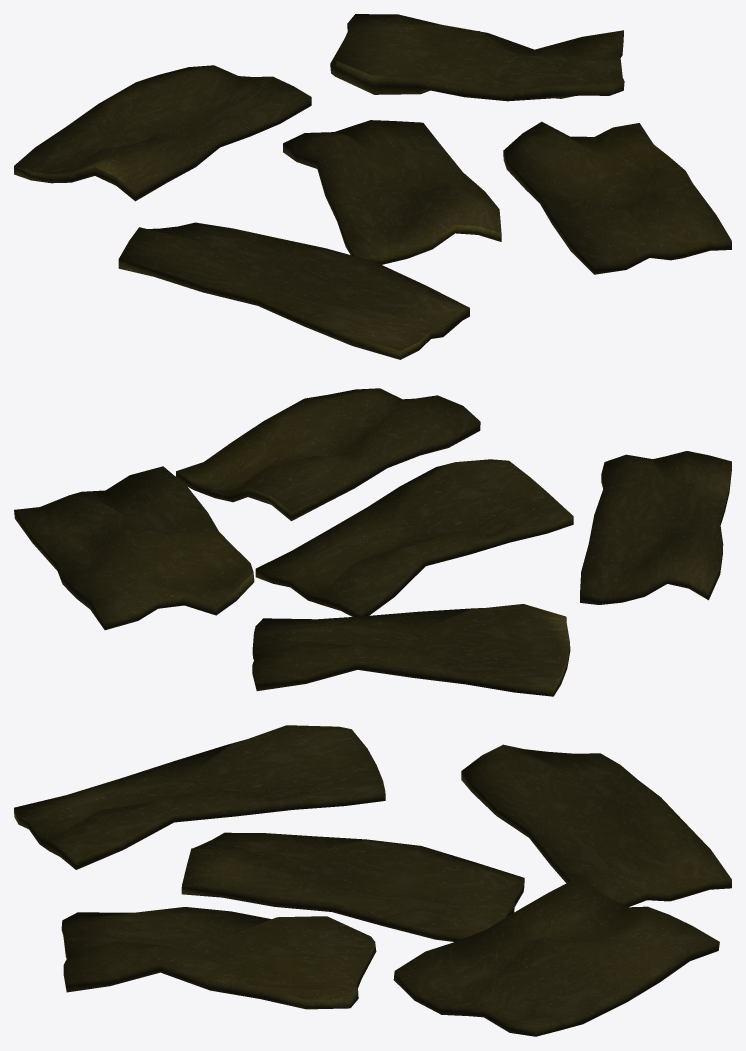
The model's file is yakiniku_02_d.glb.
The picture shows the model from 3 angles, top to bottom: view 1: azimuth 30°, elevation 25°; view 2: azimuth 150°, elevation 25°; view 3: azimuth 270°, elevation 25°; orthographic projection. The views are drawn at different scales.
Visible parts, largest first — view 1: yakiniku.002; view 2: yakiniku.002; view 3: yakiniku.002.
Boxes of the visible parts, left/top/right/bottom form: yakiniku.002: left=14, top=14, right=731, bottom=359; yakiniku.002: left=14, top=388, right=731, bottom=696; yakiniku.002: left=14, top=725, right=731, bottom=1036.
Bounding box in the file's own units: 0.1823 × 0.0146 × 0.1811.
Materials: 1 (1 with a texture image).
